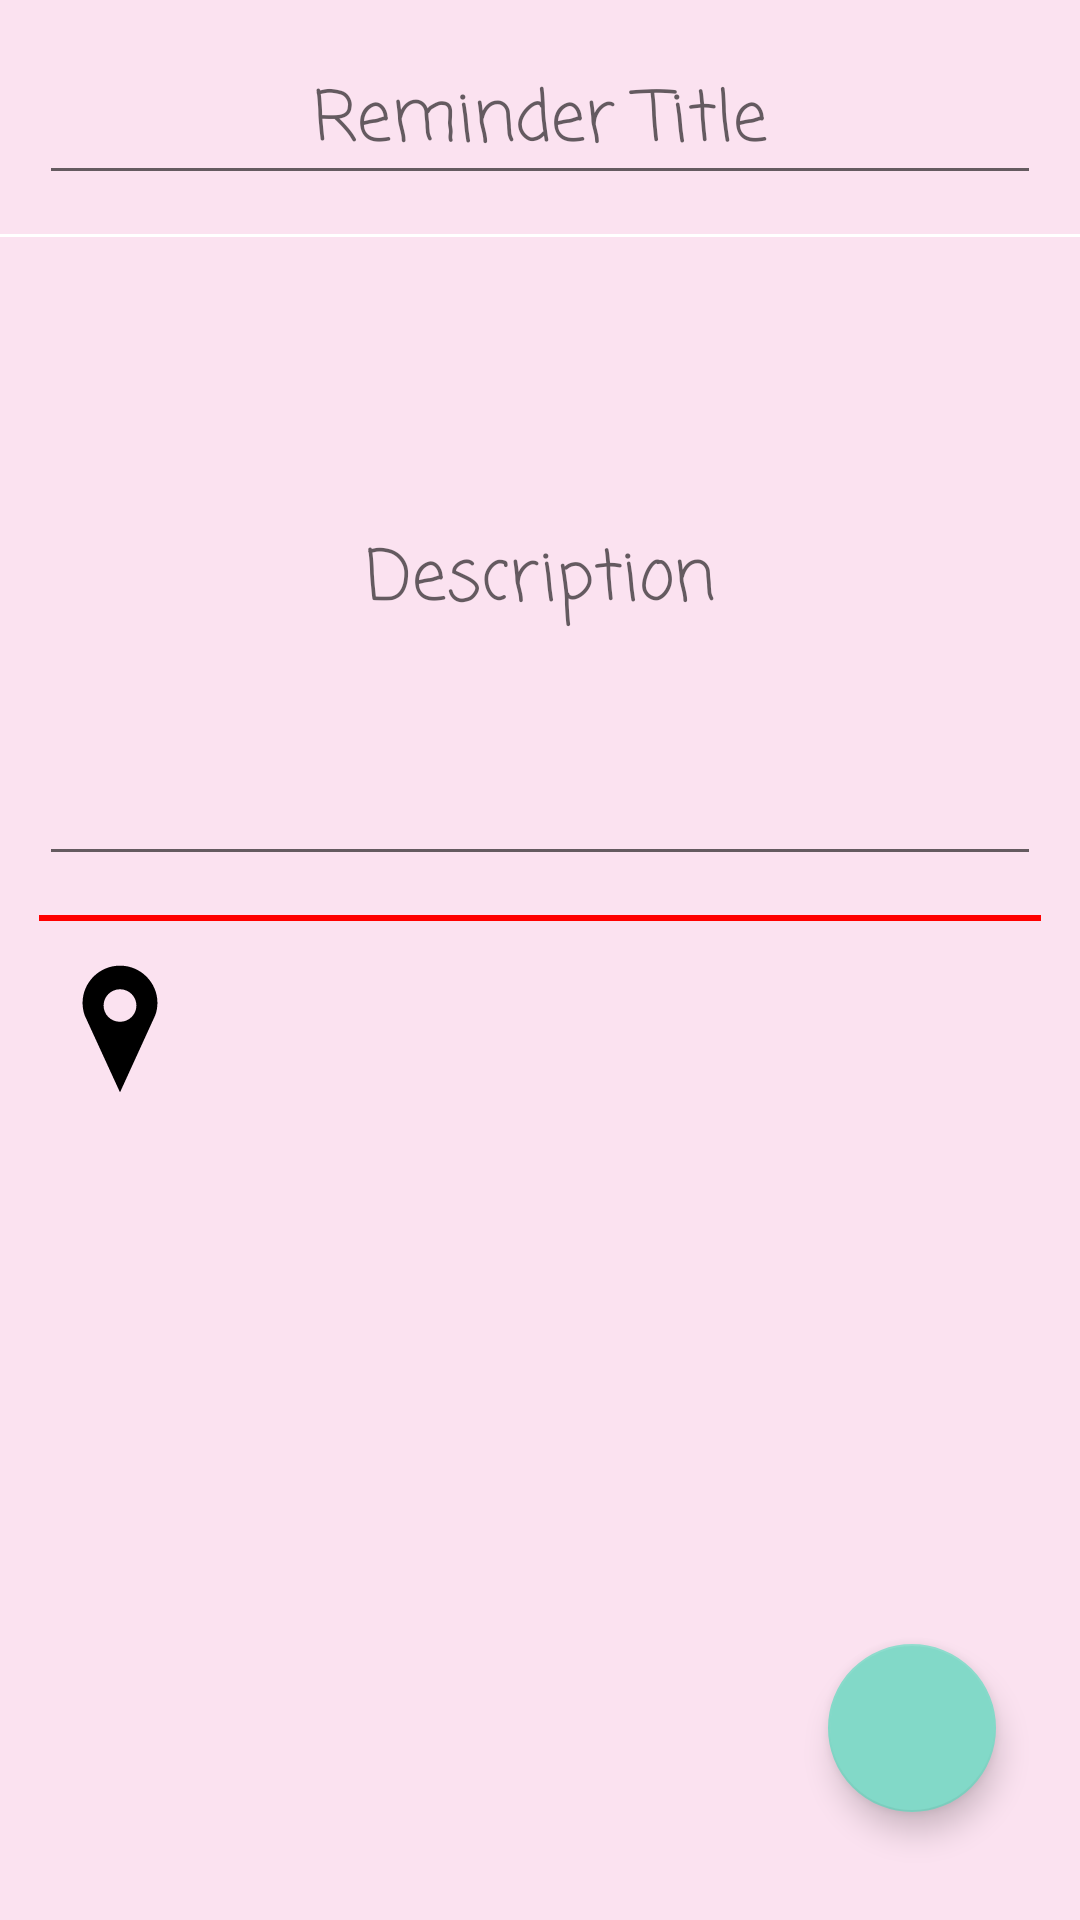

Screen size 1080px×1920px. Icon name, then its box in pixels as (x1, y1, x2, y2):
location: (82, 965, 158, 1092)
